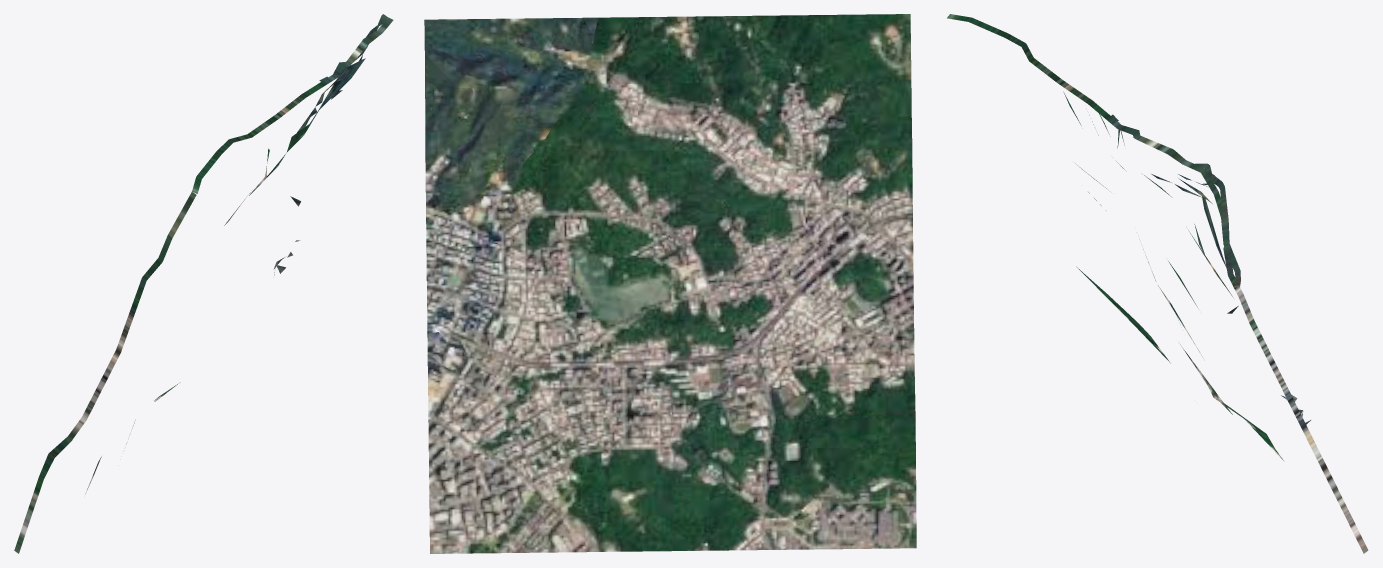
3 views of the same model, side by side, from view 1: azimuth 30°, elevation 25°; view 2: azimuth 150°, elevation 25°; view 3: azimuth 270°, elevation 25° (orthographic). The views are drawn at different scales.
Bounding box in the file's own units: 2402 × 2282 × 2041.
Materials: 1 (1 with a texture image).
